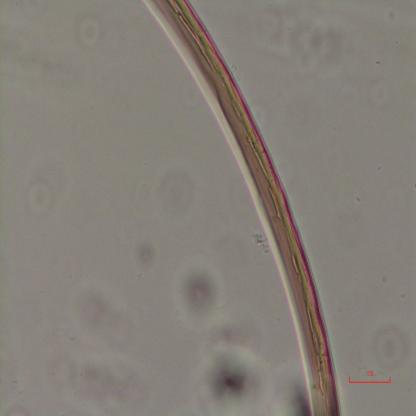Background material: (67, 283, 147, 409), (260, 8, 345, 81), (191, 343, 274, 414), (172, 259, 232, 330), (370, 323, 410, 374), (24, 177, 53, 215), (76, 11, 102, 48), (372, 66, 395, 107), (131, 237, 159, 266)
Microfibre: (150, 2, 342, 414)
